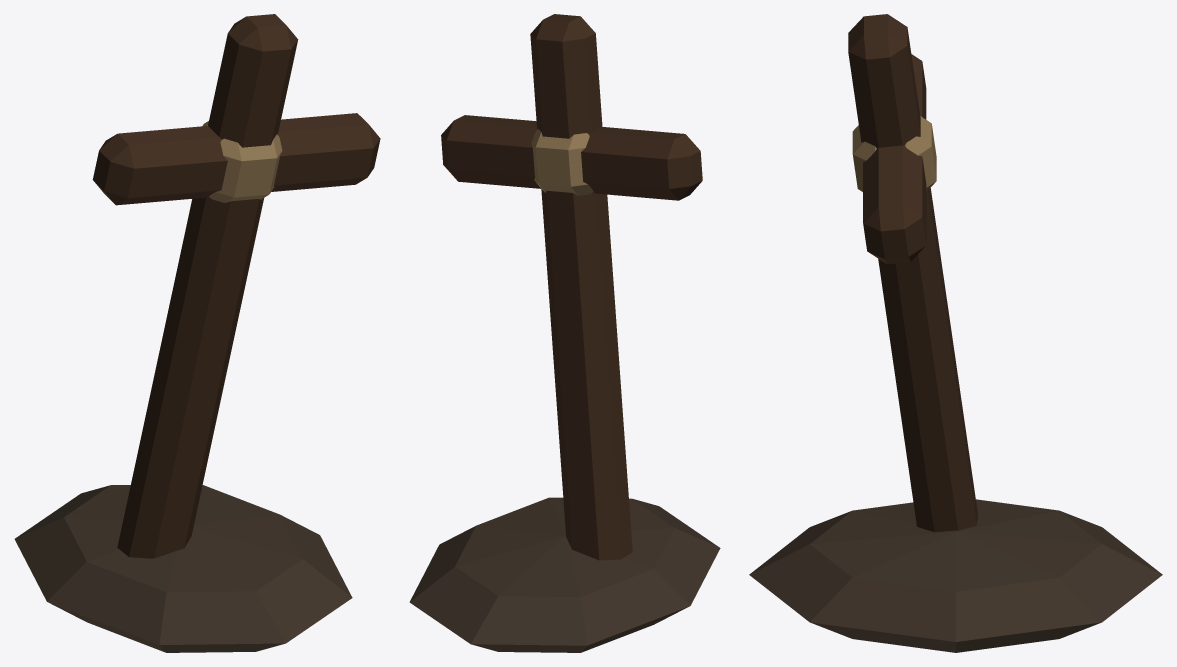
Rendered from small_cross.glb.
The picture shows the model from 3 angles, left to right: view 1: azimuth 30°, elevation 25°; view 2: azimuth 150°, elevation 25°; view 3: azimuth 270°, elevation 25°; orthographic projection. The views are drawn at different scales.
Parts seen in each view (by area): view 1: SmallCrossMound; view 2: SmallCrossMound; view 3: SmallCrossMound.
Boxes of the visible parts, x1,y1,x2,y2 form: SmallCrossMound: (14, 14, 380, 652); SmallCrossMound: (409, 14, 720, 652); SmallCrossMound: (749, 14, 1162, 652).
Size of the model in its own units: 0.1738 by 0.3429 by 0.208.
